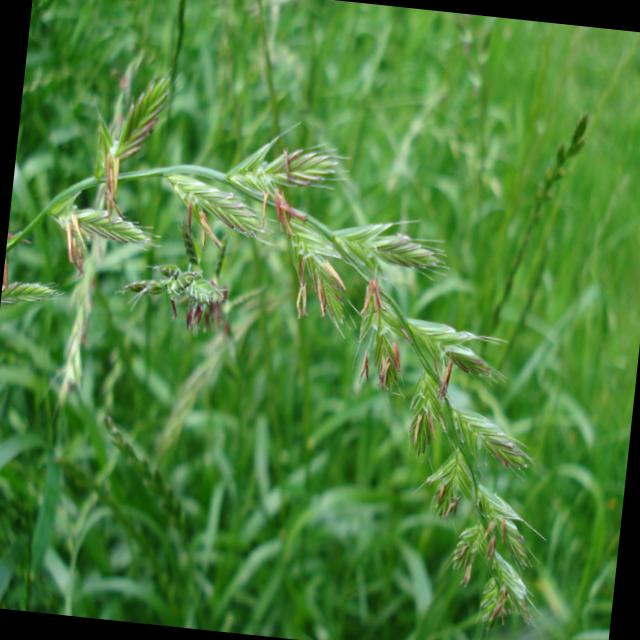Lolium: (0, 47, 596, 640)
